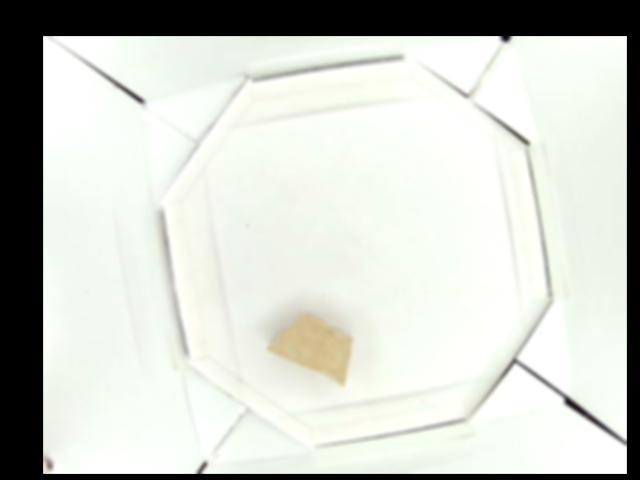China: (268, 309, 352, 384)
